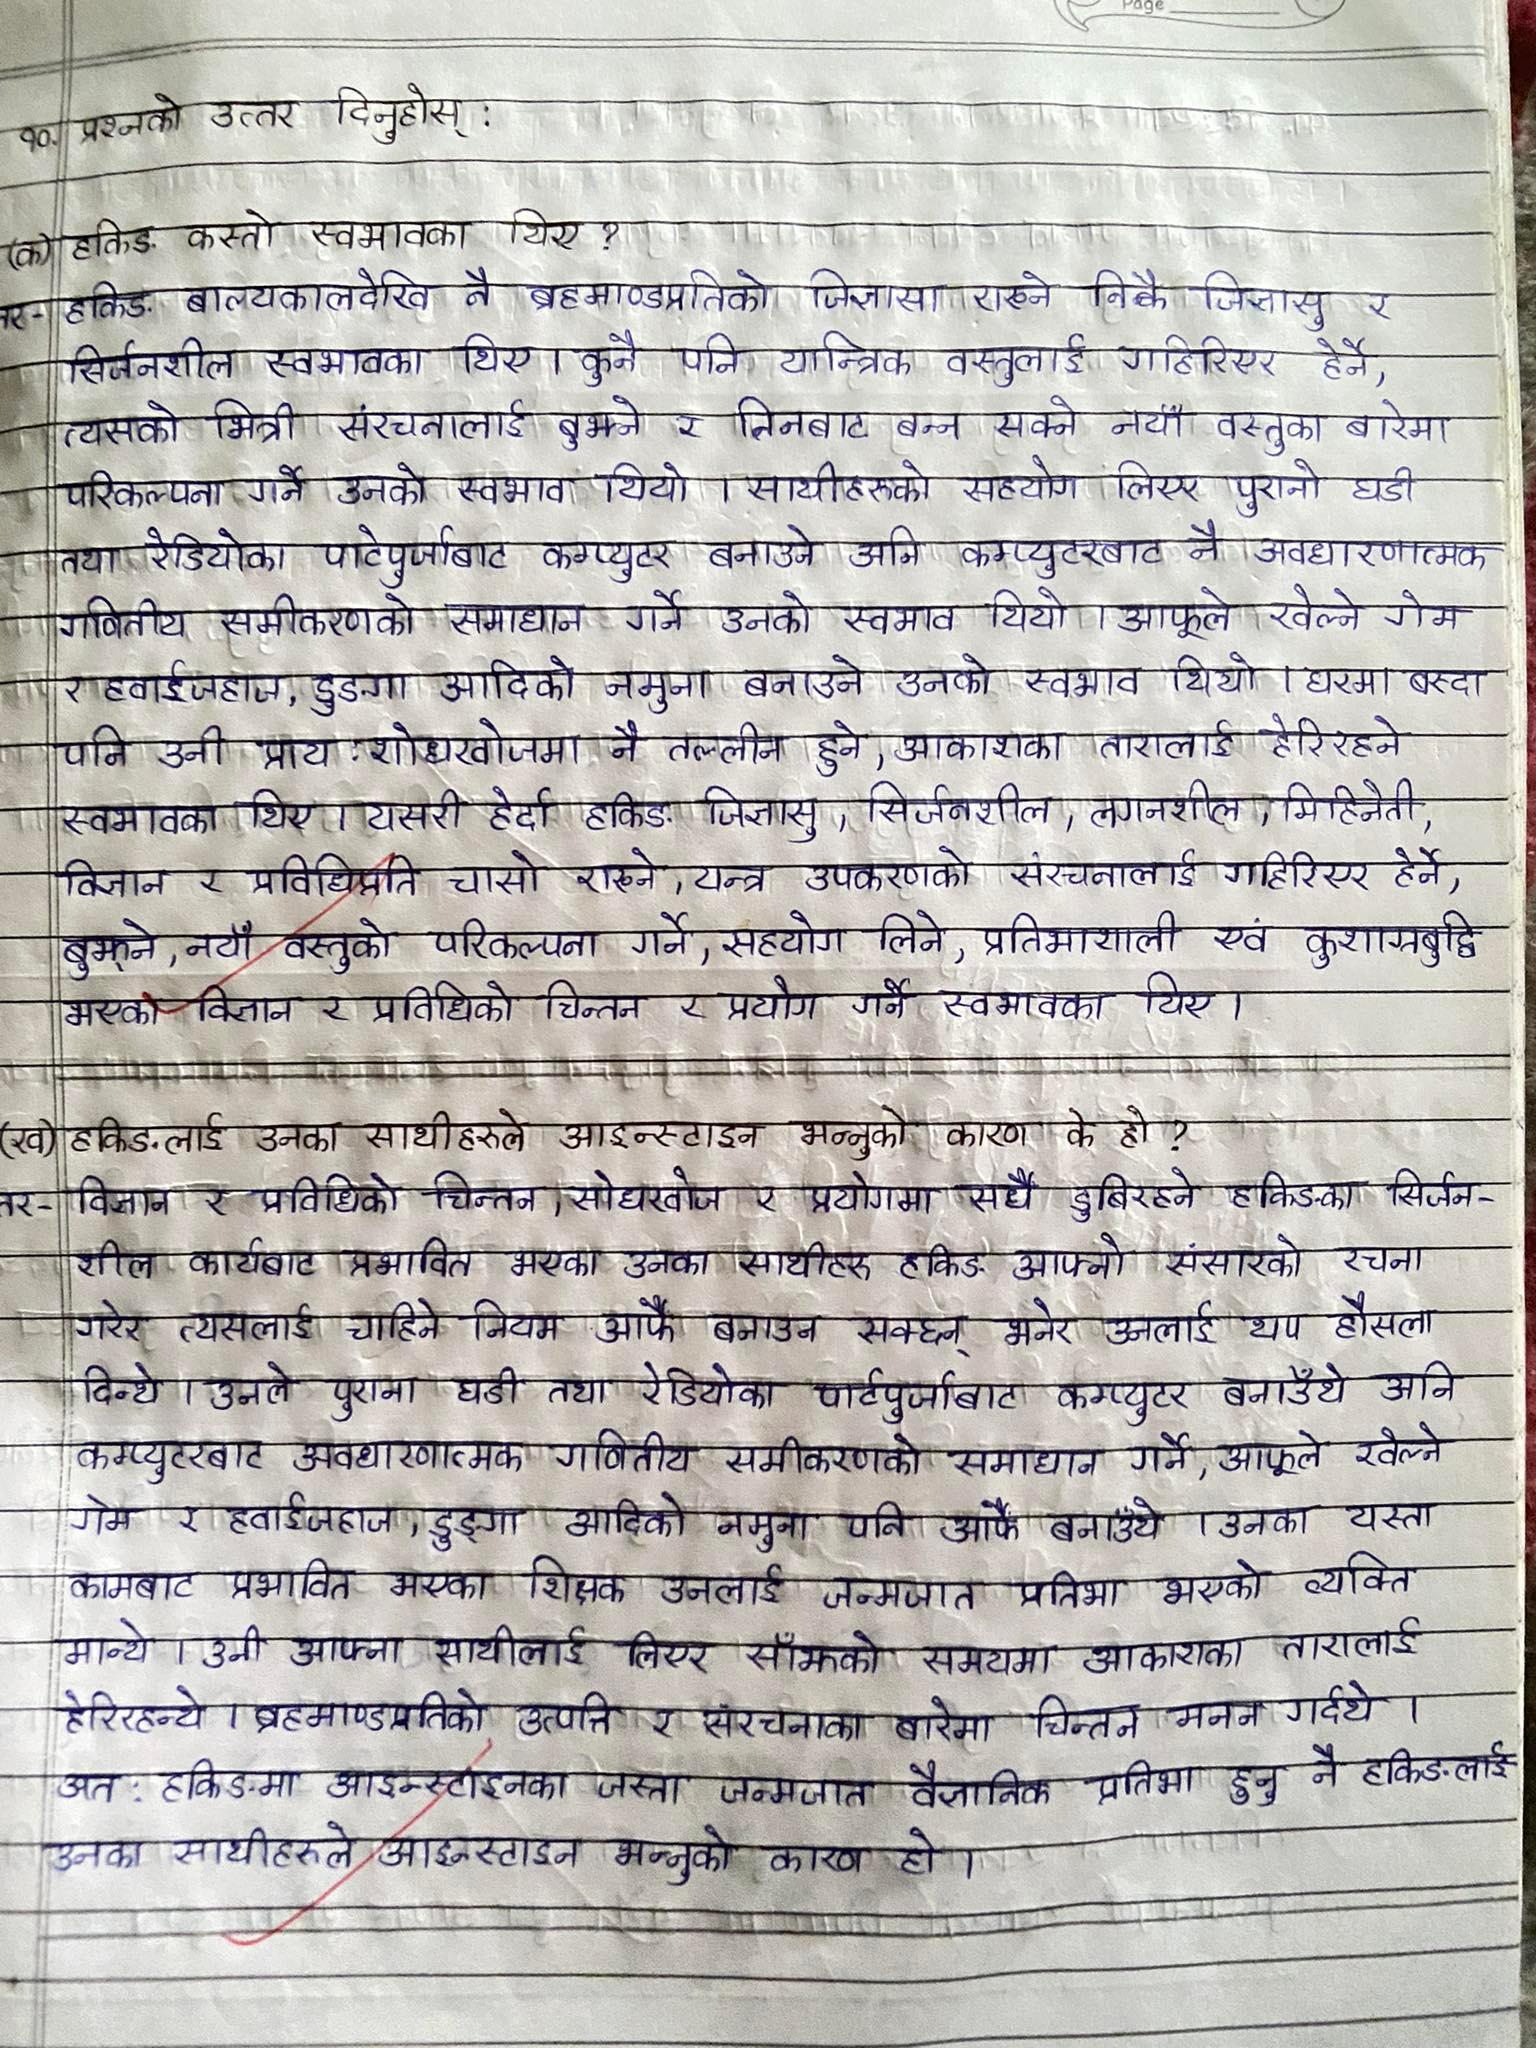text: (315, 519, 515, 589), (521, 266, 779, 319), (810, 1364, 1029, 1426), (252, 1684, 502, 1737), (1299, 910, 1494, 976), (316, 1758, 581, 1806), (365, 719, 587, 776), (179, 271, 442, 318), (374, 1822, 587, 1877), (326, 77, 479, 150), (215, 590, 421, 643), (287, 1434, 529, 1479), (336, 397, 532, 452), (723, 1432, 929, 1484), (737, 461, 934, 514), (557, 1109, 765, 1159), (173, 1821, 360, 1875), (65, 332, 236, 390), (975, 913, 1194, 958), (1252, 534, 1497, 574), (1007, 848, 1208, 897), (950, 534, 1173, 577), (102, 655, 287, 706), (636, 1356, 783, 1421), (608, 1821, 741, 1892), (695, 1696, 871, 1750), (863, 780, 1055, 829), (1254, 710, 1418, 766), (1189, 268, 1336, 331), (729, 392, 873, 455), (426, 1621, 595, 1674), (60, 1684, 215, 1742), (76, 1438, 274, 1484), (223, 1492, 400, 1542), (941, 332, 1097, 389), (1113, 331, 1284, 382), (428, 914, 603, 964), (802, 264, 952, 323), (810, 1571, 995, 1617), (160, 1751, 303, 1811), (361, 1109, 536, 1158), (244, 855, 423, 901), (802, 845, 975, 893), (1089, 779, 1246, 832), (1078, 1634, 1260, 1679), (891, 724, 1071, 769), (774, 327, 915, 385), (550, 1426, 699, 1480), (707, 1766, 874, 1814), (560, 1492, 707, 1546), (694, 780, 824, 842), (1278, 776, 1428, 829), (53, 593, 194, 650), (366, 980, 524, 1030), (432, 655, 584, 706), (741, 1627, 887, 1680), (933, 984, 1118, 1026), (136, 524, 290, 574), (1220, 848, 1375, 898), (850, 1305, 983, 1363), (900, 1763, 1054, 1813), (1160, 1234, 1312, 1284), (1278, 1616, 1434, 1664), (1329, 1285, 1446, 1350), (566, 1168, 726, 1214), (1050, 1376, 1199, 1426), (795, 1098, 913, 1161), (278, 914, 405, 972), (660, 1559, 799, 1613), (731, 653, 878, 703), (1359, 1743, 1510, 1792), (432, 597, 589, 643), (305, 214, 473, 258), (56, 468, 224, 511), (56, 795, 224, 839), (1026, 1693, 1152, 1751), (1112, 584, 1241, 640), (68, 1113, 232, 1156), (1066, 1171, 1205, 1222), (945, 1438, 1104, 1484), (1296, 1548, 1425, 1603), (1008, 1232, 1133, 1288), (1047, 1495, 1175, 1550), (73, 90, 192, 148), (508, 1690, 628, 1748), (182, 1235, 324, 1284), (252, 1174, 403, 1219), (177, 1301, 329, 1347), (224, 1559, 360, 1609), (1220, 1359, 1355, 1409), (537, 537, 681, 584), (261, 340, 428, 381), (1147, 1559, 1279, 1609), (60, 398, 184, 452), (699, 526, 826, 577), (1100, 718, 1241, 764), (803, 1172, 939, 1221), (957, 455, 1083, 506), (339, 1238, 478, 1285), (733, 1238, 874, 1284), (60, 918, 161, 980), (1021, 658, 1149, 708), (1226, 1168, 1362, 1214), (916, 1637, 1062, 1680), (1100, 1301, 1225, 1351), (889, 1696, 1000, 1751), (1215, 1427, 1329, 1480), (720, 913, 845, 961), (553, 390, 647, 455), (1225, 460, 1331, 516), (42, 1829, 153, 1882), (1267, 581, 1368, 639), (1212, 405, 1329, 455), (453, 468, 578, 514), (1346, 397, 1454, 450), (423, 1500, 531, 1553), (1165, 651, 1270, 706), (537, 977, 649, 1029), (321, 1367, 428, 1421), (599, 664, 715, 713), (521, 1555, 637, 1603), (715, 1501, 820, 1555), (766, 1832, 878, 1882), (426, 1168, 544, 1214), (1091, 1763, 1204, 1811), (570, 326, 658, 387), (589, 1293, 682, 1351), (663, 724, 787, 768), (303, 668, 411, 718), (342, 1297, 453, 1345), (975, 261, 1062, 323), (445, 848, 545, 901), (466, 1297, 566, 1350), (895, 1238, 995, 1292), (703, 1306, 829, 1348), (500, 198, 591, 256), (1283, 1680, 1384, 1732), (203, 90, 308, 140), (1110, 456, 1208, 510), (61, 1613, 160, 1666), (615, 1625, 723, 1674), (1012, 1567, 1120, 1616), (207, 397, 302, 452), (63, 987, 169, 1035), (328, 461, 429, 511), (720, 972, 821, 1022), (182, 206, 281, 258), (56, 218, 161, 266), (203, 1359, 298, 1413), (53, 858, 169, 901), (1083, 264, 1175, 319), (979, 584, 1071, 639), (48, 721, 140, 776), (895, 651, 992, 703), (987, 393, 1083, 445), (194, 980, 298, 1027), (670, 327, 762, 381), (77, 1359, 169, 1413), (578, 840, 662, 898), (65, 1569, 202, 1605), (387, 1563, 499, 1606), (358, 789, 465, 834), (73, 1176, 179, 1221), (595, 460, 694, 508), (839, 601, 962, 640), (61, 279, 158, 327), (1354, 1422, 1450, 1471), (592, 1763, 695, 1808), (716, 590, 812, 639), (866, 905, 950, 959), (1379, 585, 1480, 631), (290, 1630, 407, 1669), (1137, 971, 1217, 1027), (999, 1295, 1078, 1351), (1167, 1695, 1271, 1737), (936, 1496, 1026, 1545), (849, 521, 929, 574), (447, 1364, 536, 1413), (1383, 1166, 1481, 1209), (1371, 1358, 1462, 1405), (1299, 658, 1396, 701), (74, 1238, 161, 1287), (457, 329, 537, 381), (1217, 1501, 1320, 1542), (1112, 398, 1196, 447), (507, 1240, 603, 1282), (620, 1243, 716, 1285), (52, 1766, 148, 1808), (937, 1113, 1037, 1153), (1341, 1498, 1449, 1535), (578, 792, 673, 834), (73, 1297, 152, 1347), (237, 789, 321, 835), (1341, 464, 1433, 506), (1338, 1237, 1430, 1279), (958, 1168, 1041, 1214), (691, 855, 778, 898), (807, 714, 866, 777), (484, 784, 557, 835), (250, 1118, 349, 1155), (628, 906, 695, 959), (849, 972, 920, 1022), (182, 922, 260, 968), (157, 726, 231, 772), (252, 734, 332, 776), (1126, 1429, 1196, 1477), (841, 1500, 915, 1545), (1388, 840, 1450, 893), (1241, 1300, 1312, 1347), (1405, 663, 1488, 703), (897, 1822, 947, 1887), (66, 1490, 137, 1535), (200, 1625, 271, 1671), (624, 589, 691, 637), (242, 461, 310, 508), (1212, 913, 1276, 959), (891, 405, 968, 443), (1225, 1758, 1283, 1809), (1315, 334, 1371, 385), (61, 535, 121, 581), (455, 264, 503, 314), (1309, 1738, 1349, 1798), (1183, 518, 1226, 571), (660, 398, 710, 443), (544, 1377, 616, 1408), (1113, 1100, 1154, 1153), (607, 718, 645, 769), (1062, 1101, 1100, 1151), (644, 1700, 689, 1742), (15, 118, 56, 161), (313, 989, 357, 1030), (6, 1121, 52, 1158), (1360, 285, 1400, 326), (747, 1177, 787, 1218), (678, 984, 712, 1027), (190, 861, 231, 897), (195, 1182, 236, 1218), (173, 1496, 203, 1538), (11, 235, 45, 271), (60, 671, 87, 706)
